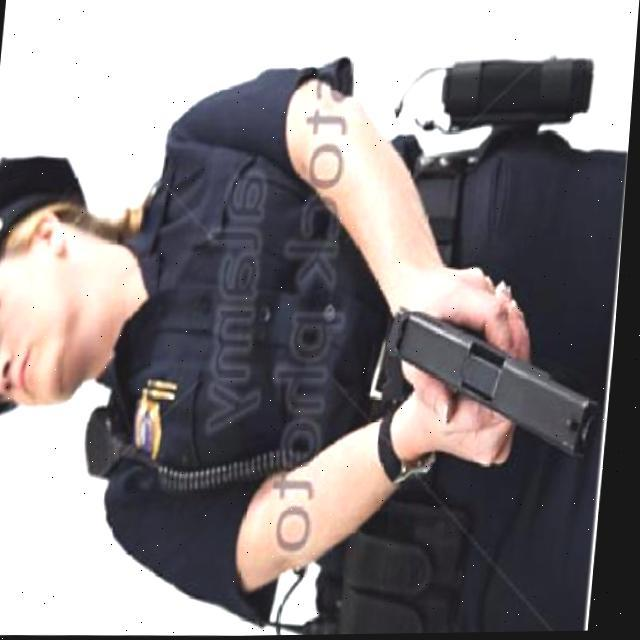gun: (385, 289, 619, 476)
